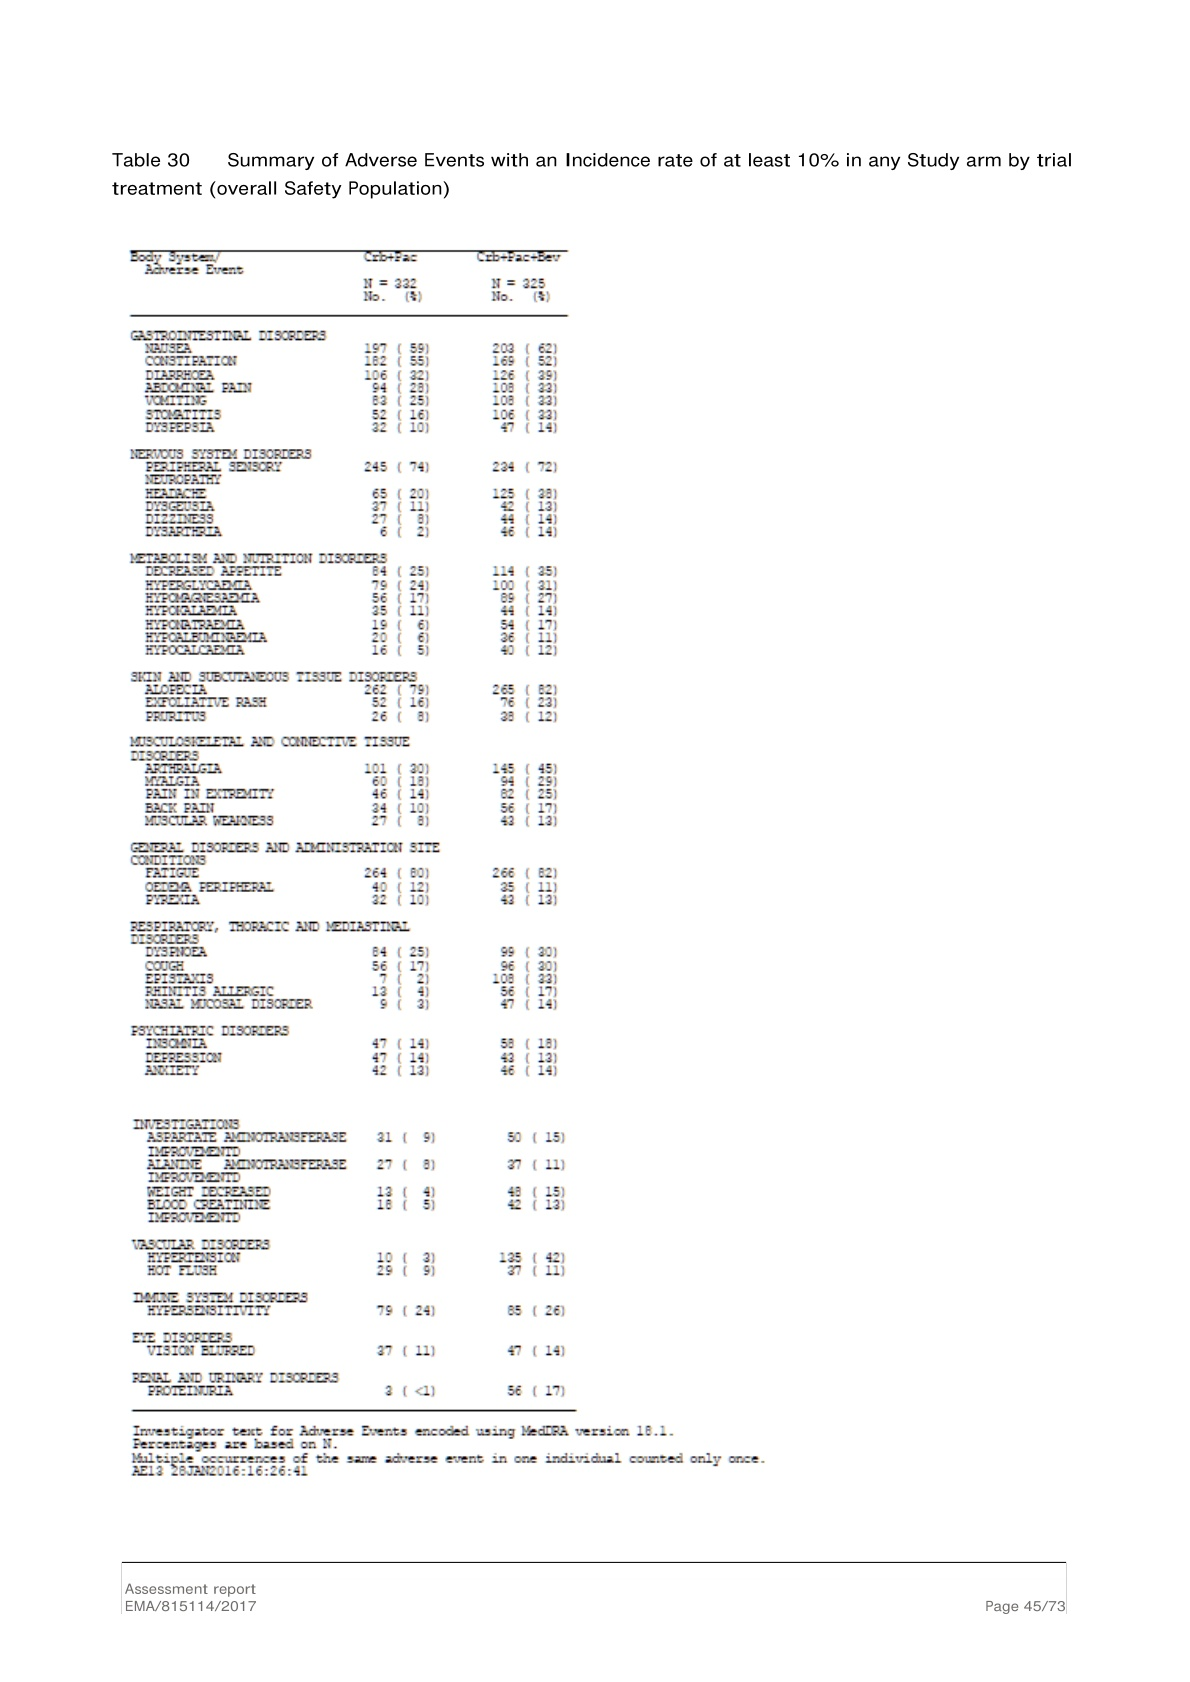partial_lined_merged_cells: (127, 247, 581, 1415)
